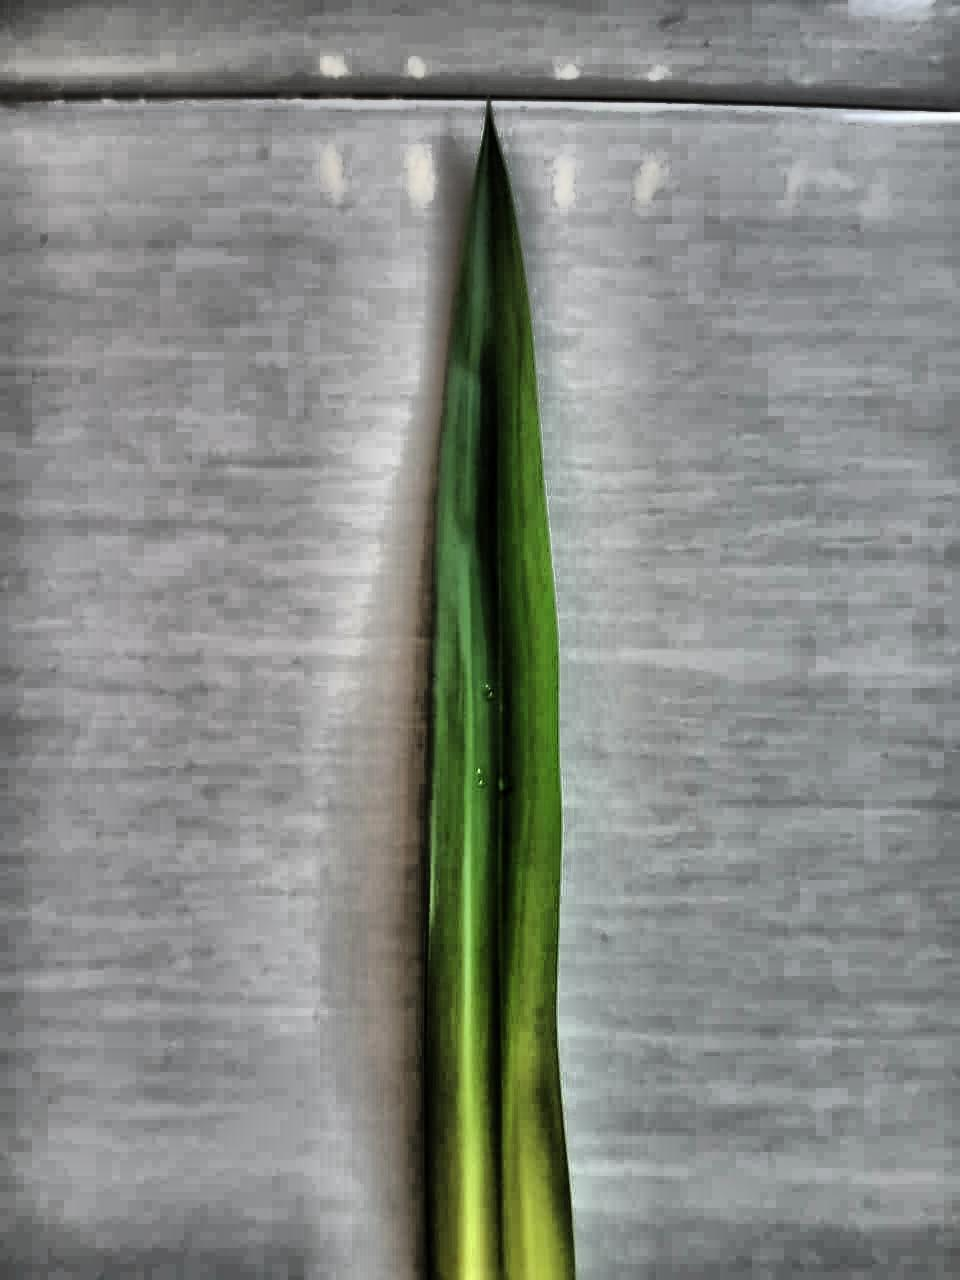daun pandan: (424, 109, 574, 1279)
